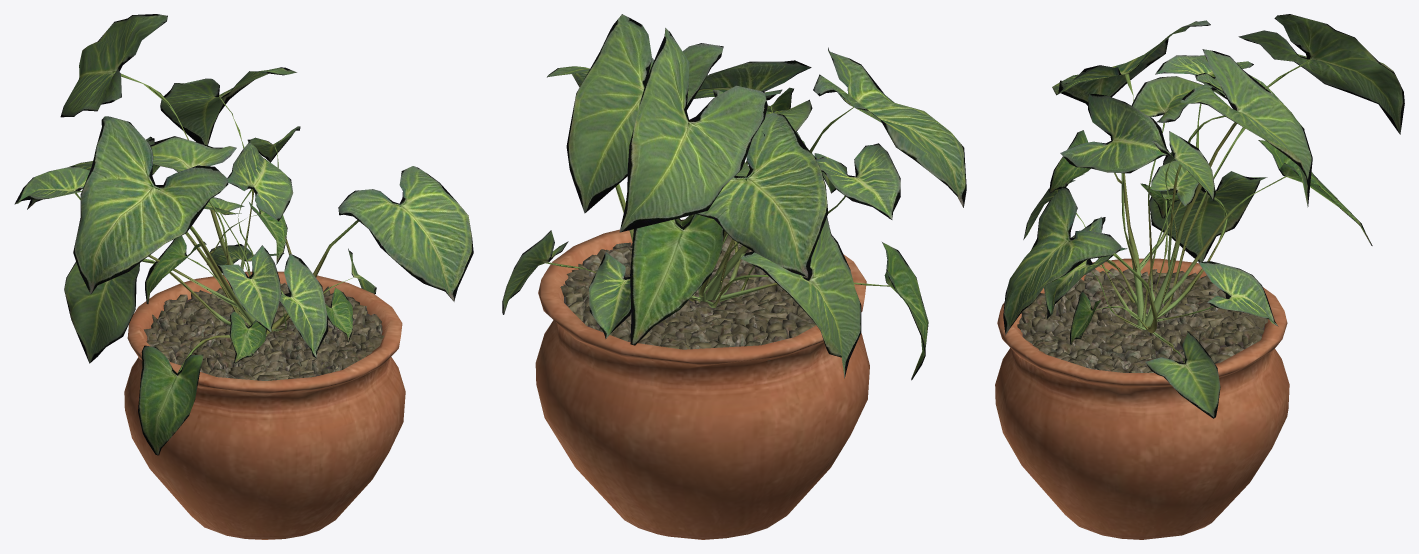
File: potted_plant_02.glb
3 views of the same model, side by side, from view 1: azimuth 30°, elevation 25°; view 2: azimuth 150°, elevation 25°; view 3: azimuth 270°, elevation 25° (orthographic). The views are drawn at different scales.
Visible parts, largest first — view 1: potted_plant_02_leaves, potted_plant_02_pot; view 2: potted_plant_02_leaves, potted_plant_02_pot; view 3: potted_plant_02_pot, potted_plant_02_leaves.
Part boxes in pixels (left/top/right/bottom): potted_plant_02_leaves: left=14, top=14, right=473, bottom=455; potted_plant_02_pot: left=124, top=271, right=405, bottom=539; potted_plant_02_leaves: left=502, top=14, right=966, bottom=380; potted_plant_02_pot: left=535, top=219, right=869, bottom=539; potted_plant_02_pot: left=995, top=258, right=1289, bottom=539; potted_plant_02_leaves: left=1003, top=14, right=1404, bottom=418.
Size of the model in its own units: 0.7009 by 0.8401 by 0.6561.
Materials: 2 (2 with a texture image).
